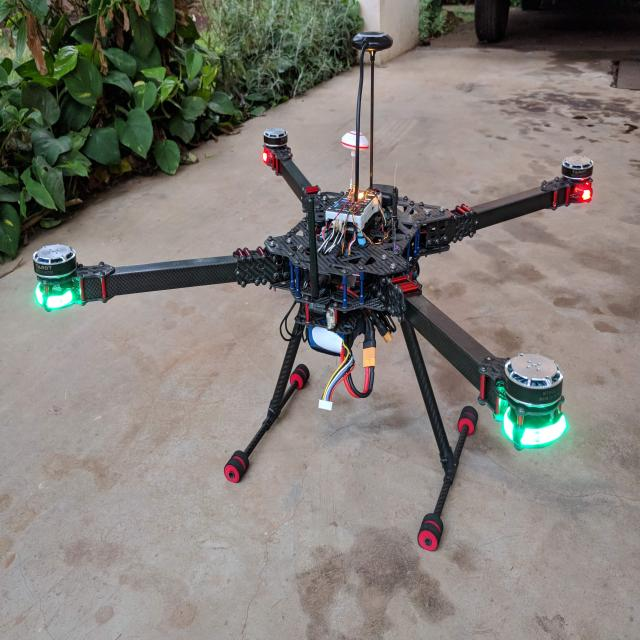drone: (30, 52, 616, 532)
